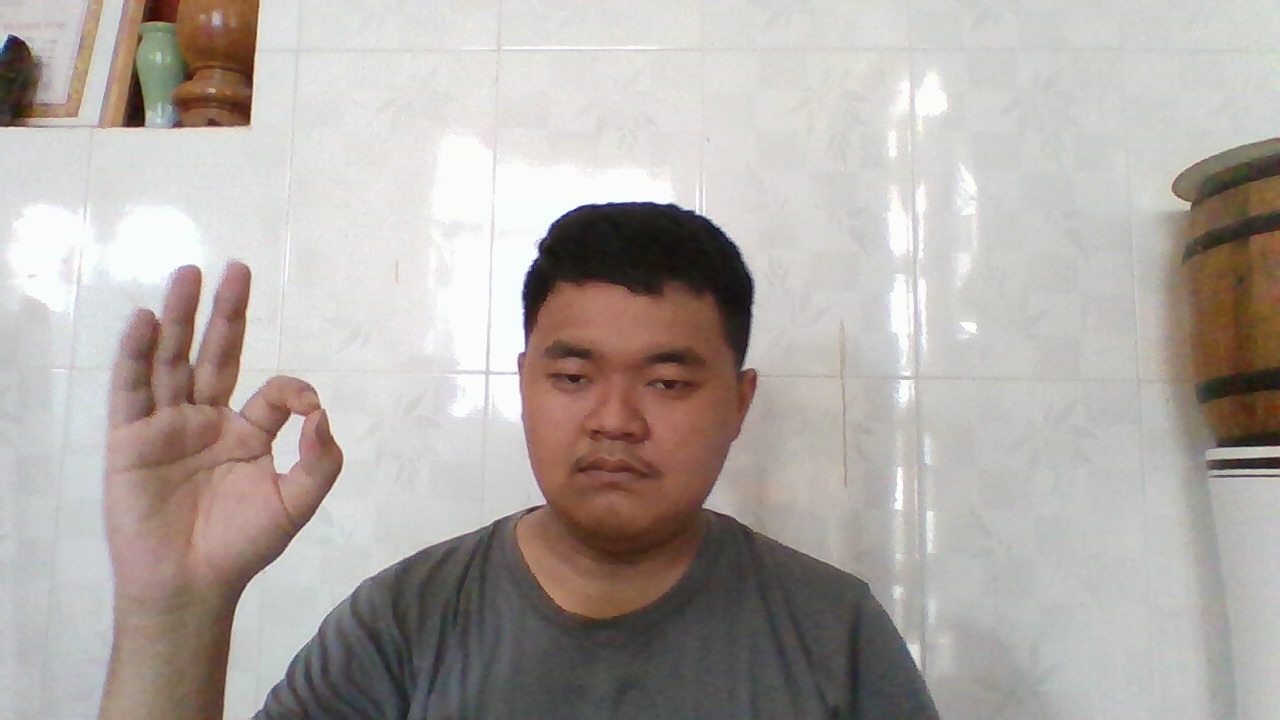T: (114, 259, 348, 613)
